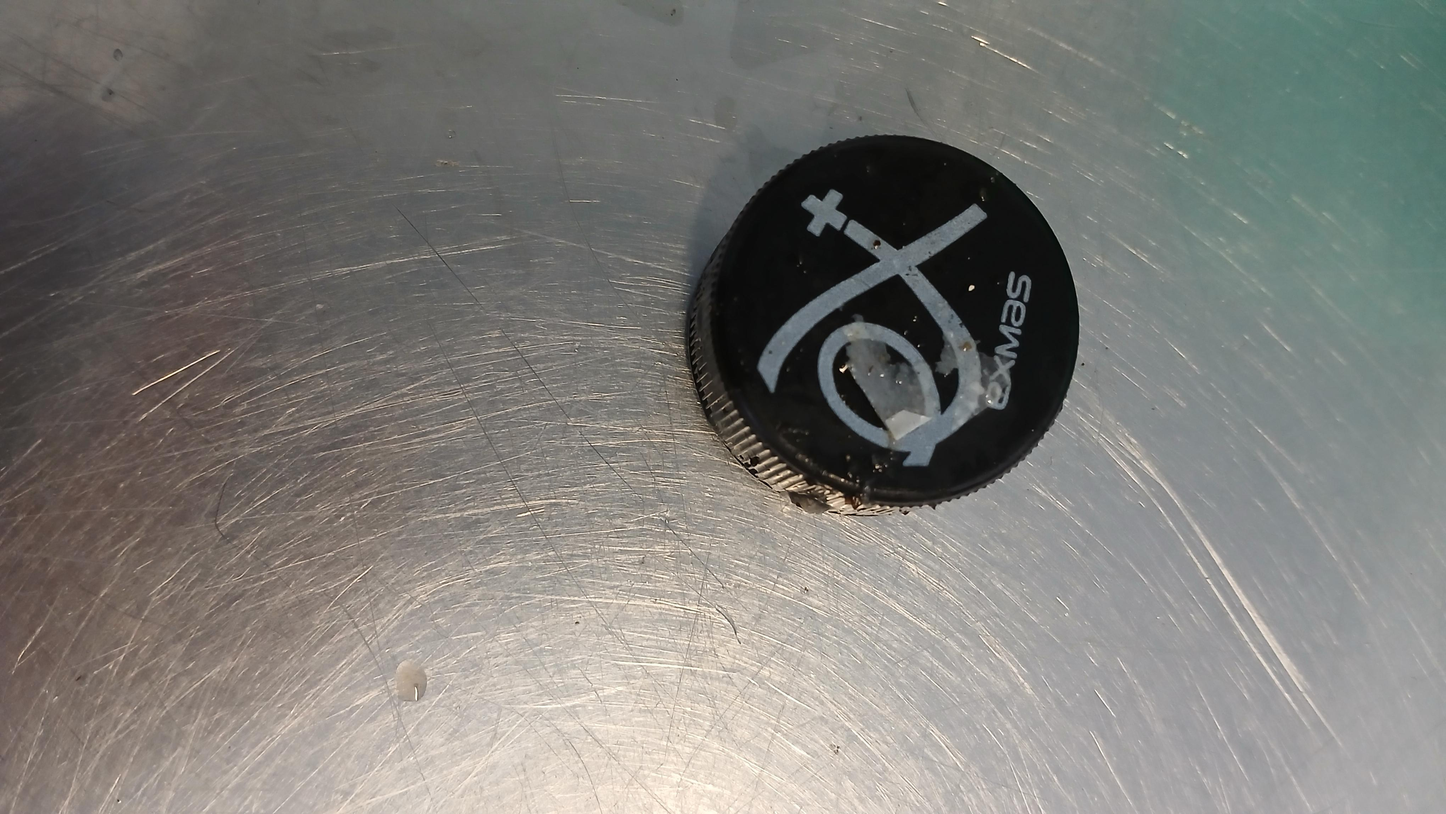Plastico: (683, 134, 1082, 519)
